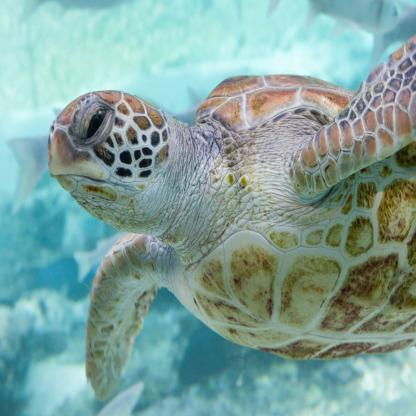turtle: (41, 79, 170, 231)
